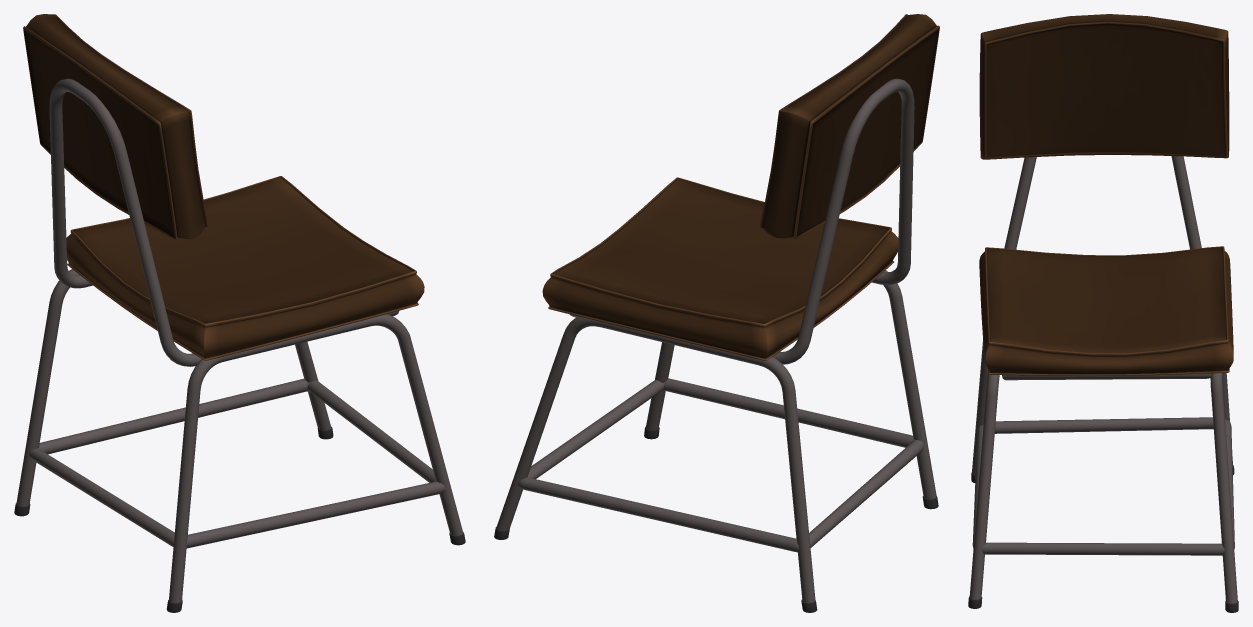
Rendered from chairs.fbx.
3 views of the same model, side by side, from view 1: azimuth 30°, elevation 25°; view 2: azimuth 150°, elevation 25°; view 3: azimuth 270°, elevation 25° (orthographic). The views are drawn at different scales.
Visible parts, largest first — view 1: Plane.018, Plane.016, Rectangl16.002, Line263.002, Line265.002, Line264.002; view 2: Plane.018, Plane.016, Rectangl16.002, Line264.002, Line265.002, Line263.002; view 3: Plane.016, Plane.018, Rectangl16.002, Line263.002, Line265.002, Line264.002.
Part boxes in pixels (x1,y1,x2,y2): Plane.018: [66, 176, 424, 360]; Plane.016: [23, 14, 208, 239]; Rectangl16.002: [29, 378, 445, 548]; Line263.002: [169, 314, 463, 603]; Line265.002: [49, 78, 399, 366]; Line264.002: [16, 269, 331, 506]; Plane.018: [542, 177, 898, 360]; Plane.016: [760, 14, 939, 239]; Rectangl16.002: [518, 378, 924, 552]; Line264.002: [496, 316, 815, 602]; Line265.002: [570, 78, 914, 364]; Line263.002: [645, 270, 936, 499]; Plane.016: [979, 14, 1229, 159]; Plane.018: [979, 246, 1233, 376]; Rectangl16.002: [972, 417, 1234, 555]; Line263.002: [969, 340, 999, 599]; Line265.002: [1002, 156, 1211, 380]; Line264.002: [1210, 373, 1237, 603].
Bounding box in the file's own units: 56.17 × 83.6 × 44.52.
